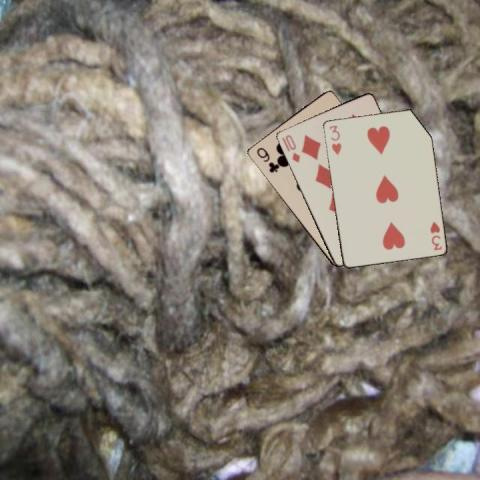10d: (282, 131, 301, 164)
3h: (326, 122, 343, 156), (426, 219, 442, 251)
9c: (253, 144, 279, 174)
